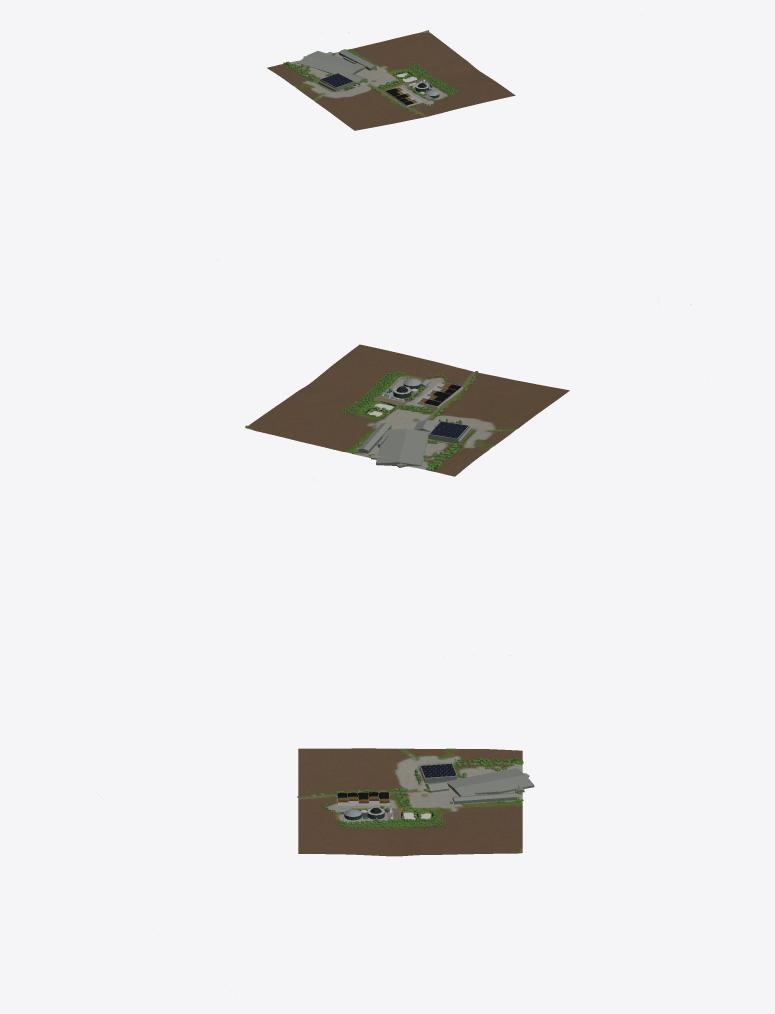
Rendered from lpf_site_web.glb.
The picture shows the model from 3 angles, top to bottom: view 1: azimuth 30°, elevation 25°; view 2: azimuth 150°, elevation 25°; view 3: azimuth 270°, elevation 25°; orthographic projection. The views are drawn at different scales.
Visible parts, largest first — view 1: web_terrain, bld_b00_roofS, bld_b00_roofN; view 2: web_terrain, bld_b00_roofS, bld_b00_roofN; view 3: web_terrain, bld_b00_roofN, bld_b00_roofS.
Boxes of the visible parts, x1,y1,x2,y2 form: web_terrain: (267,30,515,130); bld_b00_roofS: (298,55,356,77); bld_b00_roofN: (308,51,365,70); web_terrain: (245,344,569,476); bld_b00_roofS: (399,428,429,465); bld_b00_roofN: (376,428,406,463); web_terrain: (298,748,522,856); bld_b00_roofN: (454,774,533,796); bld_b00_roofS: (446,768,524,787).
Bounding box in the file's own units: 1190 × 26.74 × 1099.
